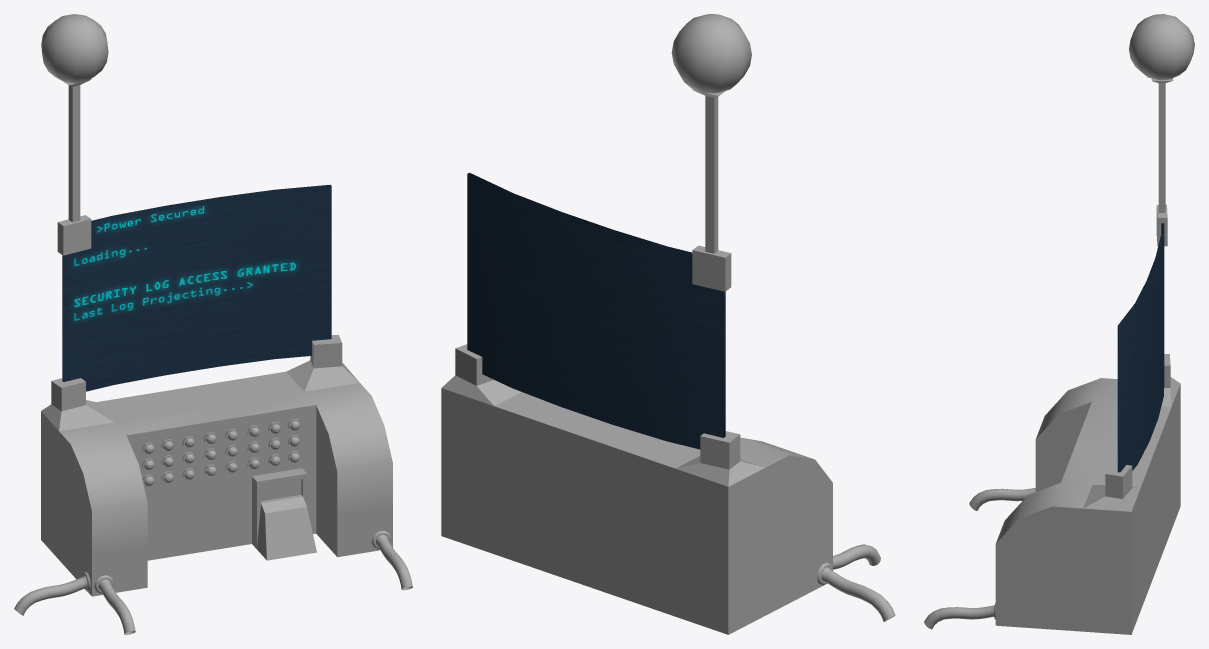
The model's file is Terminal_.fbx.
3 renders of one model, left to right at view 1: azimuth 30°, elevation 25°; view 2: azimuth 150°, elevation 25°; view 3: azimuth 270°, elevation 25°, orthographic. The views are drawn at different scales.
Visible parts, largest first — view 1: main_terminal, screen_1, left_protrusion, pSphere1, projector_rod, conduit2, conduit1, conduit3; view 2: main_terminal, screen_1, pSphere1, projector_rod, conduit2, conduit1; view 3: main_terminal, screen_1, pSphere1, projector_rod, conduit3, conduit1.
Part boxes in pixels (x1,y1,x2,y2): main_terminal: (41, 334, 392, 596); screen_1: (62, 184, 331, 391); left_protrusion: (252, 468, 316, 560); pSphere1: (41, 14, 108, 83); projector_rod: (57, 79, 91, 255); conduit2: (14, 571, 90, 615); conduit1: (94, 575, 135, 634); conduit3: (371, 530, 412, 590); main_terminal: (441, 344, 832, 634); screen_1: (467, 172, 725, 449); pSphere1: (671, 14, 751, 93); projector_rod: (692, 89, 731, 291); conduit2: (817, 562, 895, 621); conduit1: (833, 544, 880, 569); main_terminal: (995, 354, 1180, 634); screen_1: (1117, 223, 1164, 472); pSphere1: (1129, 14, 1194, 80); projector_rod: (1151, 78, 1173, 246); conduit3: (924, 603, 995, 629); conduit1: (969, 488, 1035, 510).
Bounding box in the file's own units: 390 × 553 × 265.
